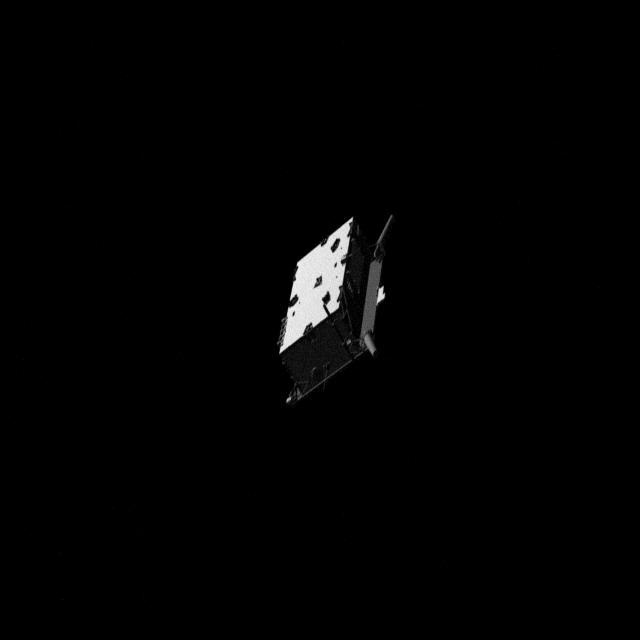medium_debris: (262, 194, 408, 412)
